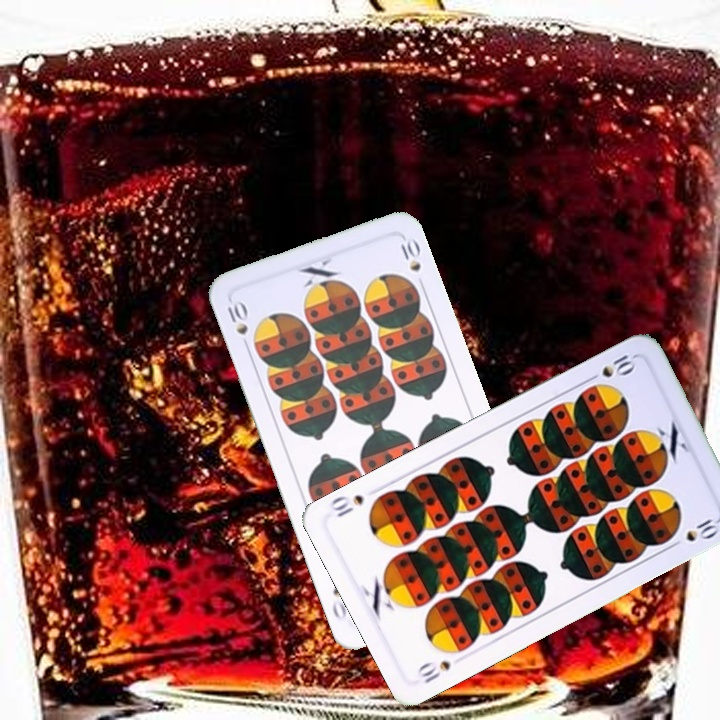S10: (582, 350, 639, 385), (223, 296, 252, 353), (413, 656, 453, 686)
